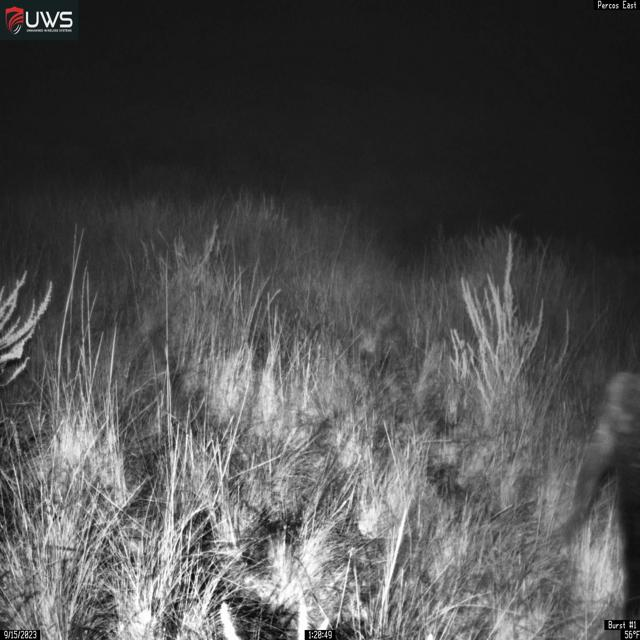pig: (563, 366, 640, 621)
